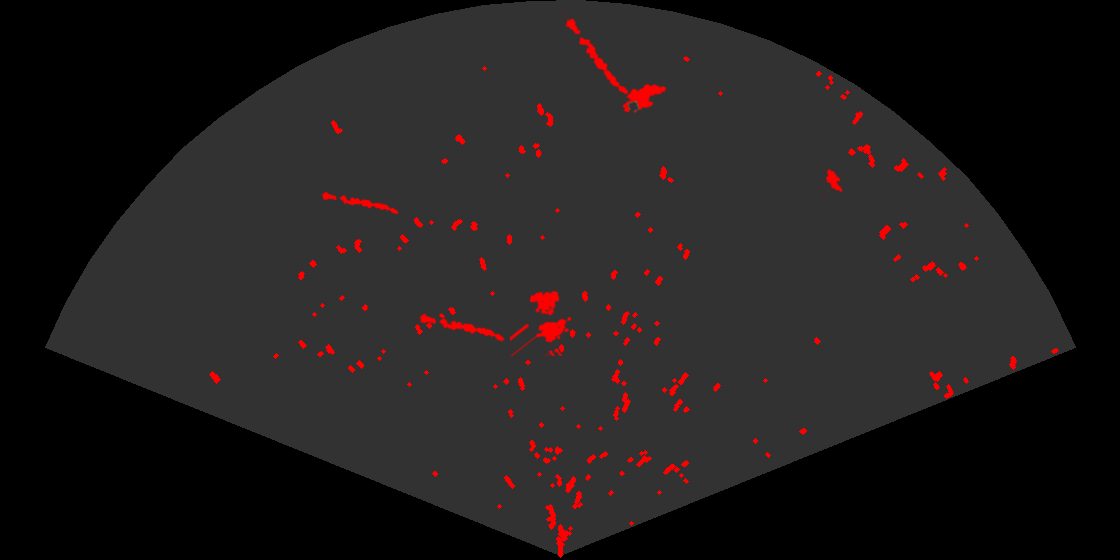AUV: (621, 82, 668, 115), (818, 167, 844, 197)
cage: (510, 289, 573, 356)
chain: (559, 11, 630, 96), (417, 312, 507, 343), (319, 190, 401, 216)
